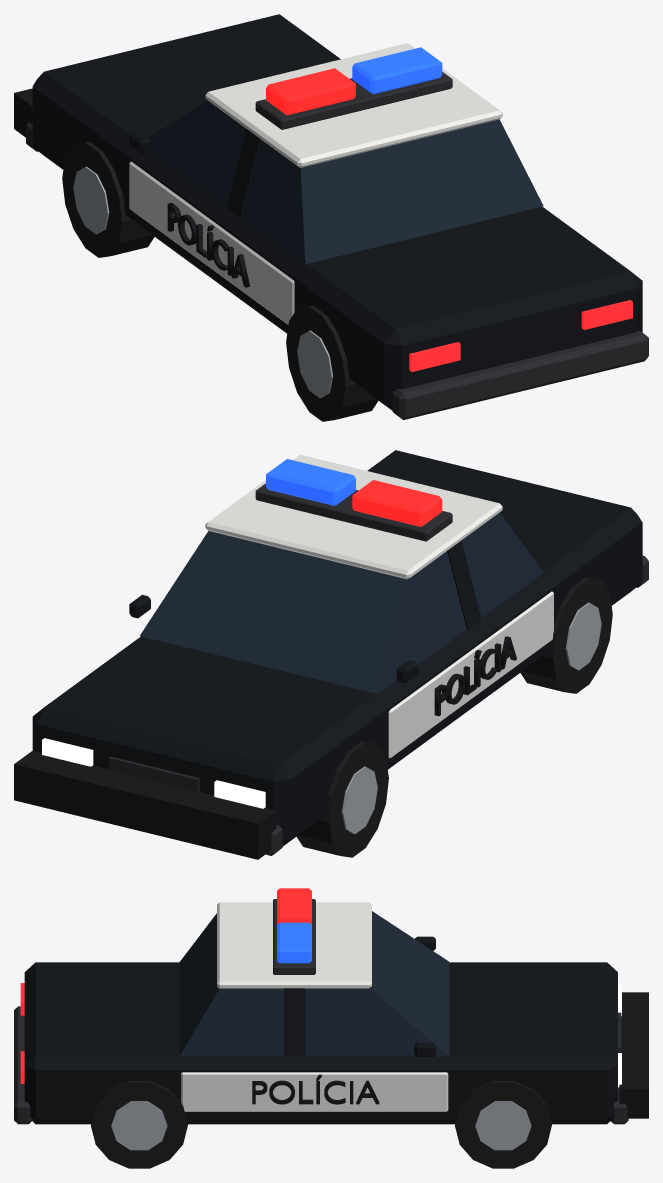
The model's file is viatura_policia.glb.
3 renders of one model, top to bottom at view 1: azimuth 30°, elevation 25°; view 2: azimuth 150°, elevation 25°; view 3: azimuth 270°, elevation 25°, orthographic. The views are drawn at different scales.
Visible parts, largest first — view 1: viatura_carroceria, viatura_faixas, roda_diant_esq, roda_tras_esq, sirene_azul, sirene_vermelha, texto_policia_esq; view 2: viatura_carroceria, viatura_faixas, roda_diant_esq, roda_tras_esq, sirene_vermelha, sirene_azul, texto_policia_esq; view 3: viatura_carroceria, viatura_faixas, roda_tras_dir, roda_diant_dir, sirene_azul, texto_policia_dir, sirene_vermelha.
Part boxes in pixels (x1,y1,x2,y2): viatura_carroceria: (26, 14, 648, 419); viatura_faixas: (14, 72, 452, 324); roda_diant_esq: (62, 141, 154, 257); roda_tras_esq: (286, 305, 378, 421); sirene_azul: (352, 47, 442, 94); sirene_vermelha: (266, 68, 355, 115); texto_policia_esq: (167, 203, 249, 287); viatura_carroceria: (32, 450, 648, 855); viatura_faixas: (14, 483, 553, 859); roda_diant_esq: (296, 741, 388, 857); roda_tras_esq: (520, 577, 612, 693); sirene_vermelha: (352, 480, 442, 526); sirene_azul: (266, 459, 355, 505); texto_policia_esq: (434, 636, 516, 716); viatura_carroceria: (14, 902, 628, 1124); viatura_faixas: (181, 899, 648, 1118); roda_tras_dir: (91, 1081, 187, 1168); roda_diant_dir: (455, 1081, 551, 1168); sirene_azul: (277, 922, 311, 963); texto_policia_dir: (252, 1074, 379, 1104); sirene_vermelha: (277, 888, 311, 924).
Size of the model in its own units: 1.94 by 1.61 by 4.71.
